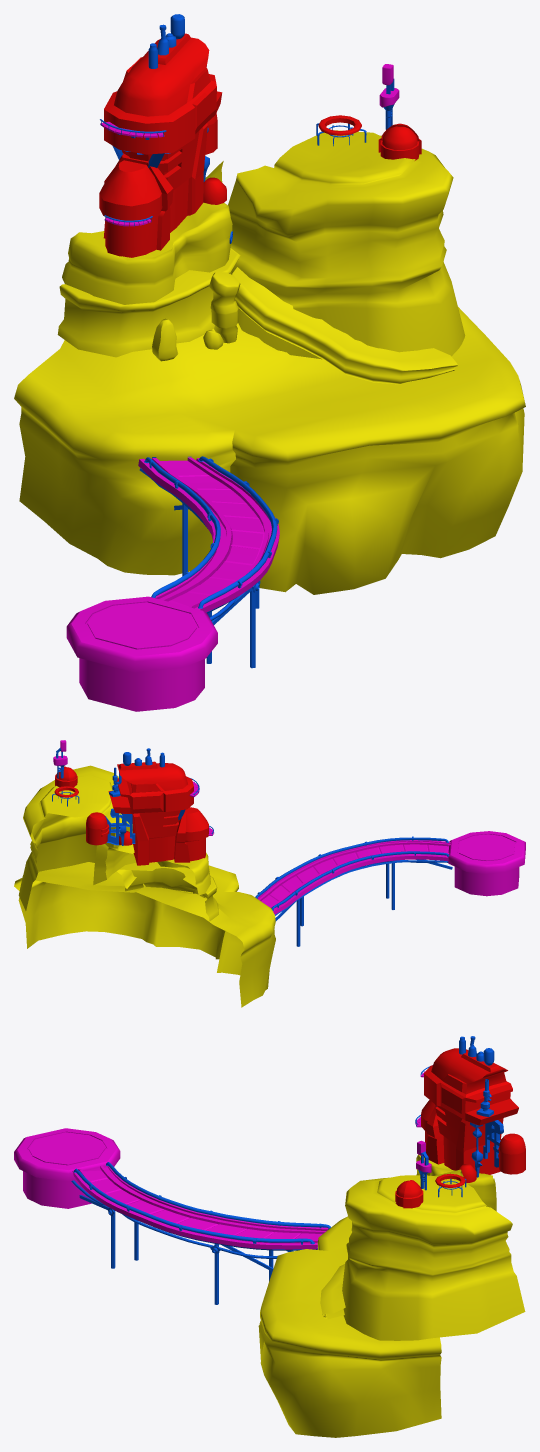
The model's file is Midground_high.fbx.
3 renders of one model, top to bottom at view 1: azimuth 30°, elevation 25°; view 2: azimuth 150°, elevation 25°; view 3: azimuth 270°, elevation 25°, orthographic. The views are drawn at different scales.
Parts seen in each view (by area): view 1: MidGround_high, TallBoulder_high, CellTower_high; view 2: MidGround_high, CellTower_high; view 3: MidGround_high, CellTower_high.
Boxes of the visible parts, x1,y1,x2,y2 form: MidGround_high: (14, 14, 525, 711); TallBoulder_high: (152, 318, 178, 361); CellTower_high: (379, 64, 399, 129); MidGround_high: (14, 748, 525, 1007); CellTower_high: (53, 740, 67, 778); MidGround_high: (14, 1036, 525, 1437); CellTower_high: (416, 1140, 431, 1190).
Bounding box in the file's own units: 476 × 337 × 473.
